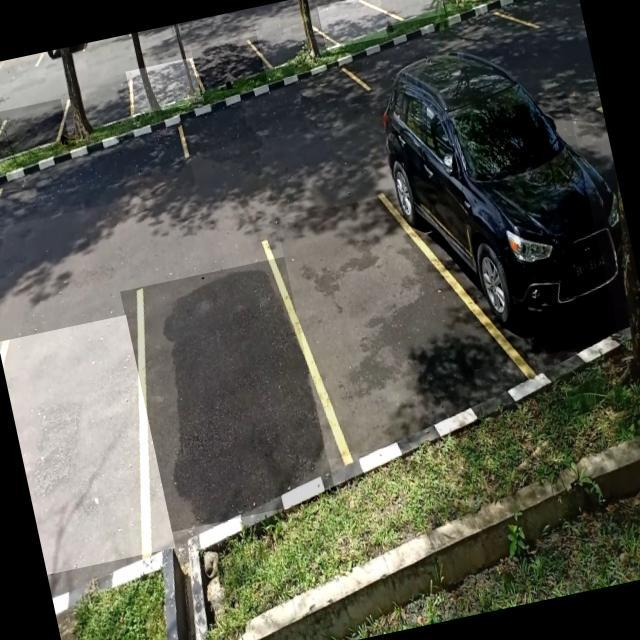empty: (120, 256, 336, 532), (276, 186, 484, 460), (0, 315, 174, 574), (0, 128, 195, 230), (174, 61, 373, 156), (58, 75, 140, 139), (0, 97, 76, 162), (125, 56, 204, 115), (192, 34, 268, 94), (254, 10, 327, 70), (316, 0, 387, 49), (375, 0, 445, 26)
occupied: (391, 94, 618, 376)
